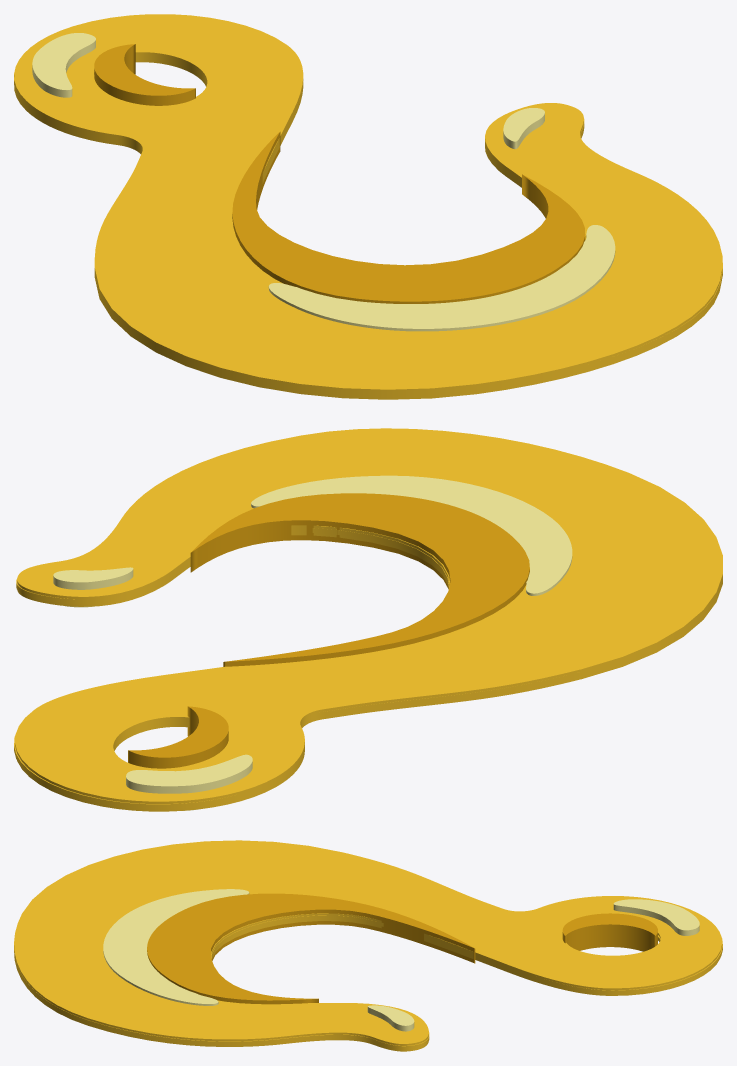
The model's file is emoji_u1fa9d.glb.
3 views of the same model, one above another, from view 1: azimuth 30°, elevation 25°; view 2: azimuth 150°, elevation 25°; view 3: azimuth 270°, elevation 25° (orthographic). The views are drawn at different scales.
Parts seen in each view (by area): view 1: emoji_u1fa9d; view 2: emoji_u1fa9d; view 3: emoji_u1fa9d.
Boxes of the visible parts, left/top/right/bottom form: emoji_u1fa9d: left=14, top=14, right=722, bottom=399; emoji_u1fa9d: left=14, top=428, right=722, bottom=811; emoji_u1fa9d: left=14, top=840, right=722, bottom=1051.
Size of the model in its own units: 0.0232 by 0.0012 by 0.0341.
